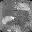people: (2, 16, 15, 25)
